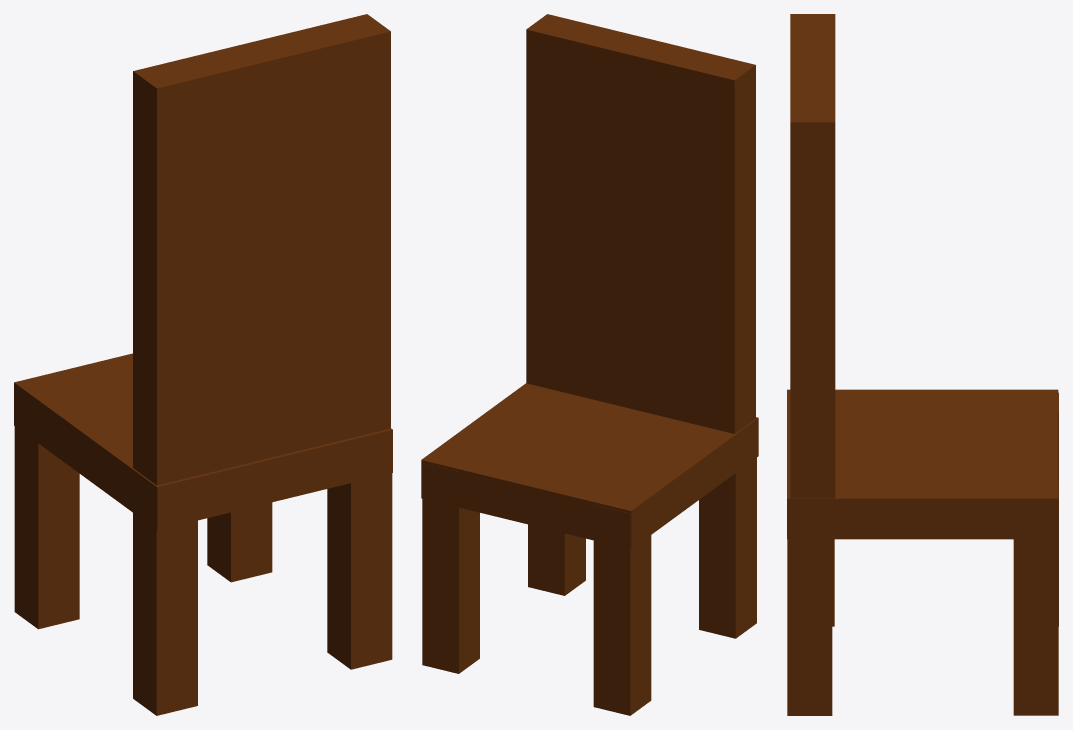
Rendered from Chair.fbx.
3 views of the same model, side by side, from view 1: azimuth 30°, elevation 25°; view 2: azimuth 150°, elevation 25°; view 3: azimuth 270°, elevation 25° (orthographic). The views are drawn at different scales.
Parts seen in each view (by area): view 1: Back, Cube.004, Cube.003, Cube, Cube.002, Cube.001; view 2: Back, Cube.004, Cube.002, Cube.001, Cube.003, Cube; view 3: Cube.004, Back, Cube.001, Cube.
Boxes of the visible parts, x1,y1,x2,y2 form: Back: [133, 14, 390, 485]; Cube.004: [14, 353, 392, 530]; Cube.003: [133, 513, 197, 715]; Cube: [327, 473, 392, 669]; Cube.002: [14, 426, 79, 629]; Cube.001: [207, 502, 272, 582]; Back: [526, 14, 755, 433]; Cube.004: [421, 383, 758, 549]; Cube.002: [593, 505, 651, 715]; Cube.001: [422, 463, 479, 673]; Cube.003: [699, 458, 756, 638]; Cube: [528, 524, 585, 595]; Cube.004: [787, 389, 1058, 539]; Back: [790, 14, 835, 498]; Cube.001: [1013, 482, 1058, 715]; Cube: [787, 539, 832, 715].
Bounding box in the file's own units: 1144 × 2908 × 1206.
